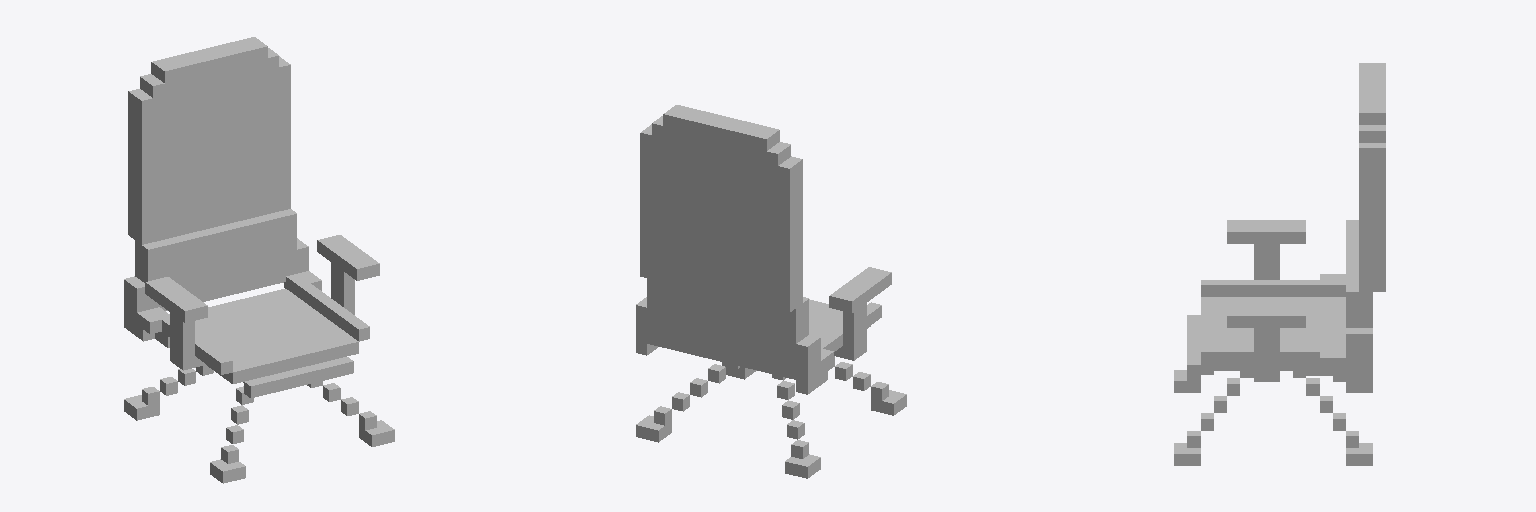
The model's file is cadeira gamer.obj.
The picture shows the model from 3 angles: view 1: azimuth 30°, elevation 25°; view 2: azimuth 150°, elevation 25°; view 3: azimuth 270°, elevation 25°; orthographic projection.
Parts seen in each view (by area): view 1: object 1; view 2: object 1; view 3: object 1.
Part boxes in pixels (left/top/right/bottom): object 1: left=124, top=37, right=394, bottom=483; object 1: left=636, top=105, right=906, bottom=478; object 1: left=1174, top=63, right=1385, bottom=465.
Size of the model in its own units: 1.7 by 2.8 by 1.6.